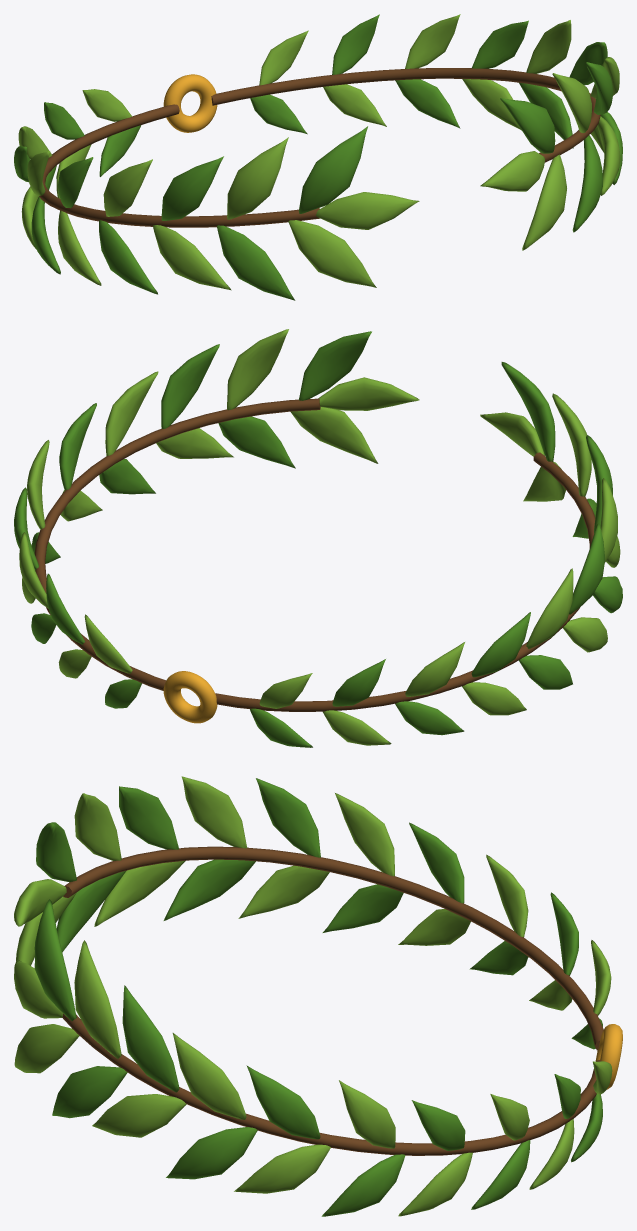
Rendered from corona.glb.
The picture shows the model from 3 angles, top to bottom: view 1: azimuth 30°, elevation 25°; view 2: azimuth 150°, elevation 25°; view 3: azimuth 270°, elevation 25°; orthographic projection. The views are drawn at different scales.
Visible parts, largest first — view 1: accesorio_corona; view 2: accesorio_corona; view 3: accesorio_corona.
Boxes of the visible parts, left/top/right/bottom form: accesorio_corona: left=14, top=14, right=622, bottom=300; accesorio_corona: left=14, top=329, right=622, bottom=747; accesorio_corona: left=14, top=776, right=622, bottom=1216.
Size of the model in its own units: 0.648 by 0.2495 by 0.5595.
